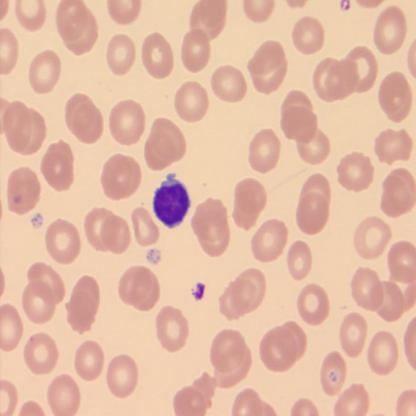Lymphocyte: (153, 174, 190, 228)
